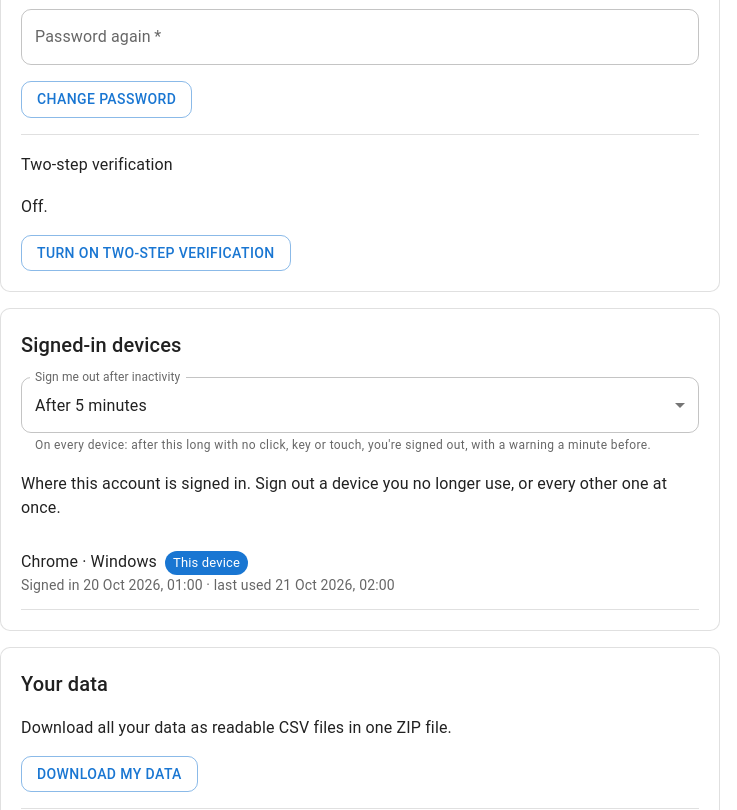
Test case: signing out after inactivity, the user's own choice (waterflow#26) › is 5 minutes by default, and saved for every device as soon as it's picked
(page scrolled)
Click the dropdown named "Sign me out after inactivity".
click(91, 405)  # box [35, 396, 147, 415]
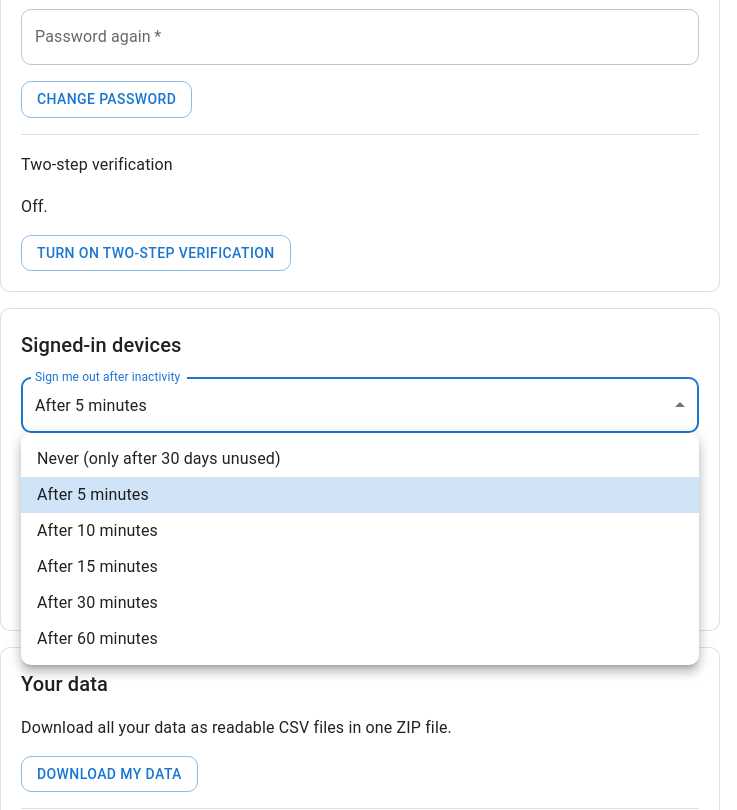
Click the option "After 15 minutes".
click(98, 566)  # box [37, 557, 158, 576]
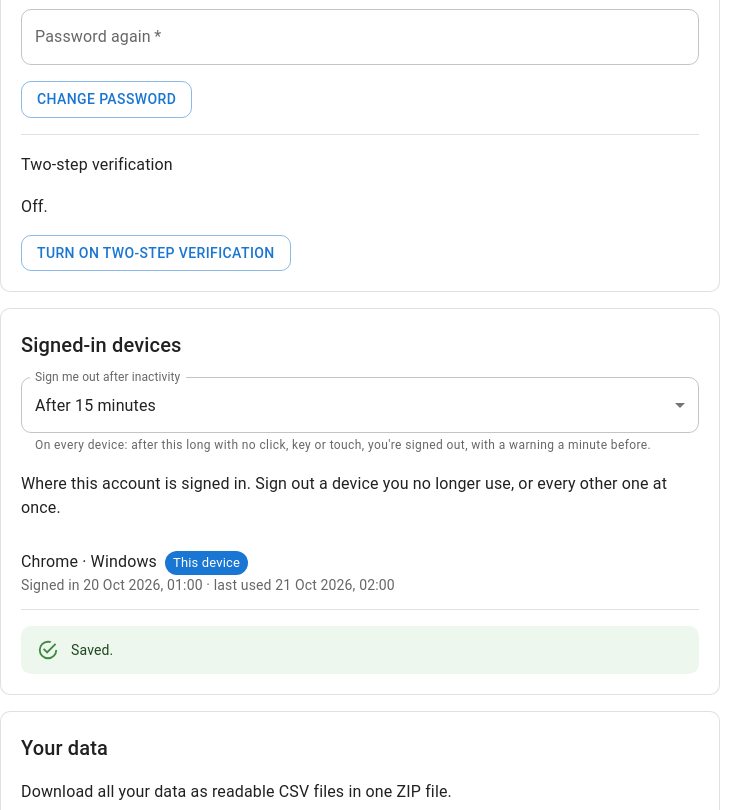
Result: the text "Saved." is shown at [71, 642, 113, 658]
Result: the dropdown named "Sign me out after inactivity" reads "After 15 minutes" at [35, 396, 156, 415]
